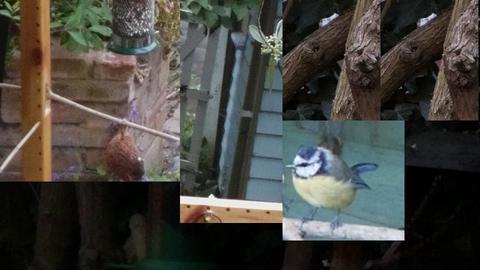blue tit: (286, 146, 380, 236)
